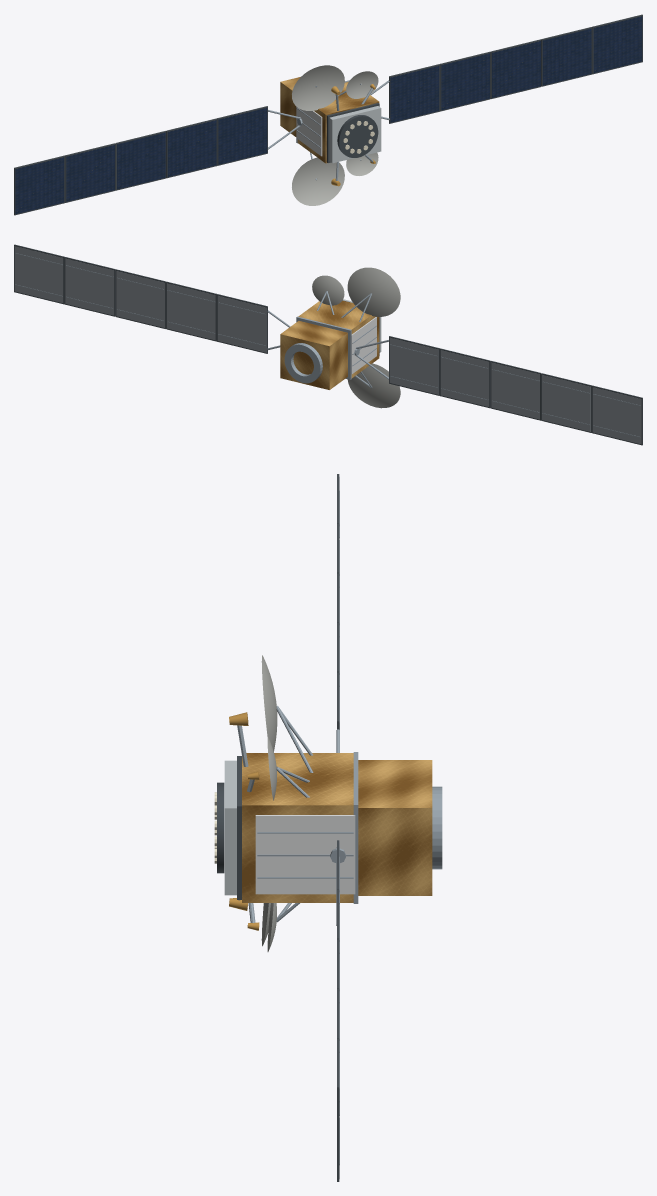
Rendered from ref-eurostar-3000lx-39034.glb.
The picture shows the model from 3 angles, top to bottom: view 1: azimuth 30°, elevation 25°; view 2: azimuth 150°, elevation 25°; view 3: azimuth 270°, elevation 25°; orthographic projection. The views are drawn at different scales.
Parts seen in each view (by area): view 1: Solar cell panel (×10), Communications reflector (×4), Solar panel frame (×10), Planar antenna aperture, Antenna equipment shelf, Payload module, Radiator face, Service module, Earth-facing deck; view 2: Rear array substrate (×10), Communications reflector (×3), Service module, Solar panel frame (×9), Payload module, Radiator face, Launch adapter ring, Module interface; view 3: Service module, Payload module, Radiator face, Antenna equipment shelf.
Part boxes in pixels (x1,y1,x2,y2): Solar cell panel (×10): (15,16,642,214); Communications reflector (×4): (292,65,378,205); Solar panel frame (×10): (14,14,642,215); Planar antenna aperture: (337,115,378,157); Antenna equipment shelf: (329,106,381,163); Payload module: (297,82,379,163); Radiator face: (296,107,322,156); Service module: (280,77,300,136); Earth-facing deck: (326,103,379,162); Rear array substrate (×10): (14,246,641,444); Communications reflector (×3): (312,267,400,408); Service module: (280,321,347,389); Solar panel frame (×9): (14,244,642,445); Payload module: (298,300,379,378); Radiator face: (351,317,376,374); Launch adapter ring: (284,343,322,383); Module interface: (296,316,351,379); Service module: (358,760,432,895); Payload module: (242,753,353,902); Radiator face: (255,815,355,894); Antenna equipment shelf: (224,760,236,895).
Bounding box in the file's own units: 33.97 × 7.18 × 5.33.
10 materials, 2 textured.
